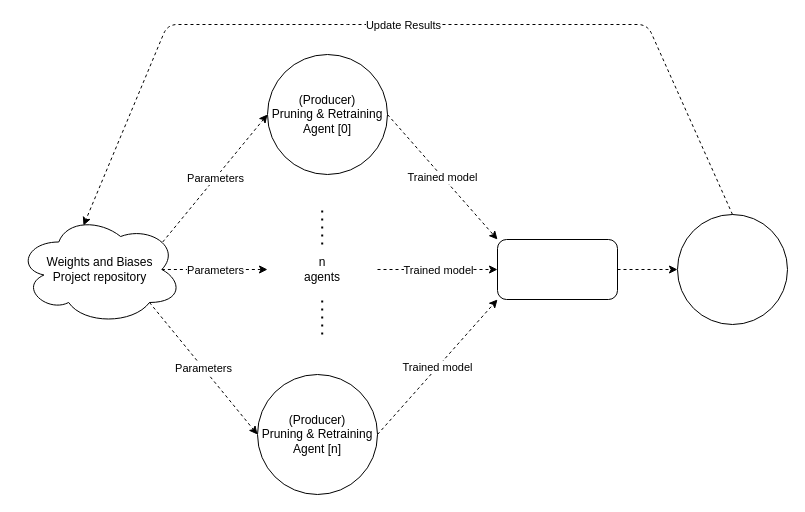
The diagram is 805 pixels wide and 512 high, and some of its shapes have lost their labels. The centre of each missing label's shape, as x and y in pixels:
"(Consumer) Benchmarking Agent" goes at point 732,269.
"Model Queue" goes at point 557,269.
